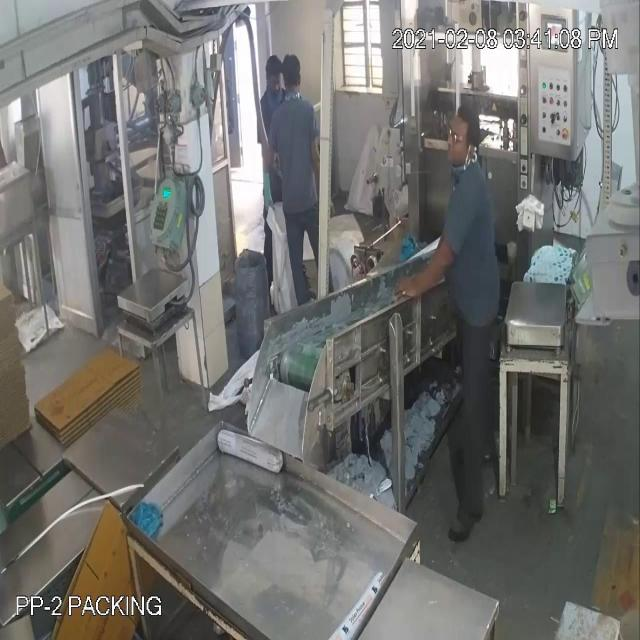No_Gloves: (396, 230, 458, 308)
